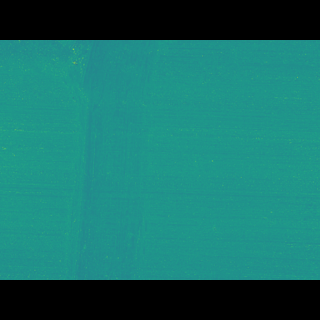Loch: (55, 69, 166, 251)
